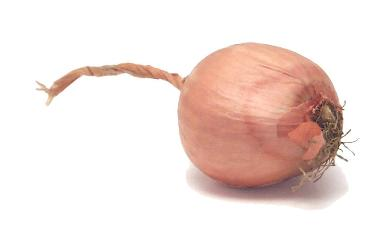onion: (37, 42, 356, 193)
